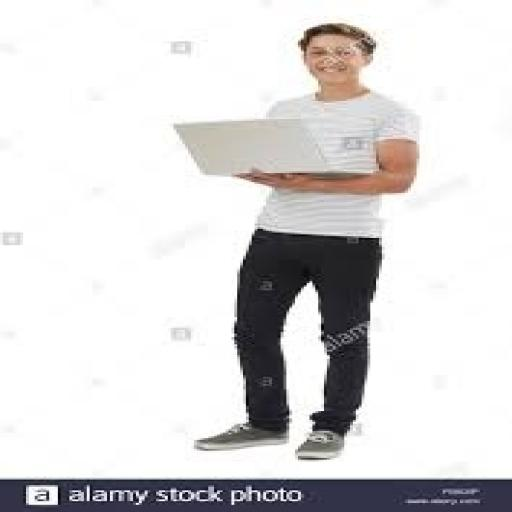using_laptop: (171, 114, 379, 178)
